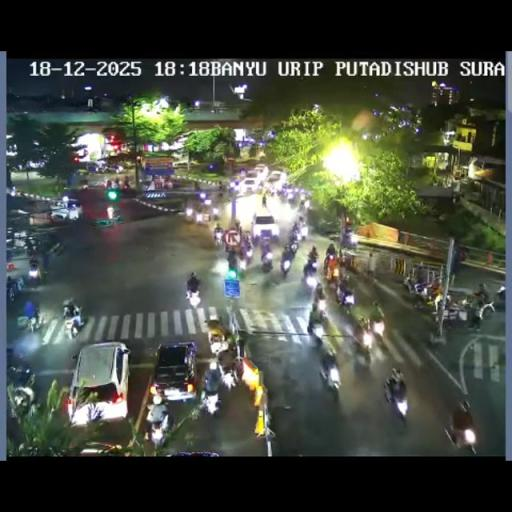Car: (68, 342, 130, 424), (150, 341, 198, 402), (250, 210, 278, 242), (70, 441, 126, 455), (236, 177, 262, 194), (266, 170, 284, 187), (254, 164, 268, 178), (172, 158, 190, 168)
Motorcycle: (306, 245, 384, 387), (403, 274, 443, 310), (444, 413, 478, 454), (384, 376, 409, 422), (266, 373, 294, 414), (432, 298, 465, 332), (6, 358, 34, 395), (350, 322, 373, 364), (465, 294, 497, 324), (61, 299, 85, 338), (318, 355, 340, 395), (146, 414, 172, 447), (216, 351, 239, 387), (16, 306, 43, 333), (200, 384, 222, 416), (307, 311, 326, 339), (207, 330, 227, 356), (336, 283, 355, 309), (234, 326, 248, 357), (302, 259, 318, 286), (186, 272, 200, 302), (259, 243, 274, 271), (26, 261, 42, 286), (323, 257, 339, 282), (492, 284, 506, 310), (290, 222, 308, 242), (24, 236, 40, 258), (370, 311, 384, 336), (280, 250, 293, 276), (6, 276, 19, 302), (314, 283, 326, 311), (341, 230, 358, 248), (242, 242, 254, 266), (341, 252, 354, 273), (195, 208, 208, 226), (286, 238, 300, 254), (226, 250, 237, 270), (222, 235, 233, 254), (325, 243, 336, 261), (67, 205, 80, 220), (227, 178, 240, 193), (213, 228, 223, 246), (266, 185, 278, 197), (185, 206, 195, 220), (287, 193, 296, 207), (309, 246, 318, 260), (211, 208, 219, 222), (122, 180, 132, 191), (208, 313, 218, 323), (110, 179, 118, 190), (299, 198, 306, 210), (234, 219, 241, 231), (198, 192, 206, 202), (262, 194, 267, 207), (217, 190, 223, 200), (10, 186, 16, 196), (80, 184, 89, 190), (194, 181, 200, 190), (218, 180, 222, 190)
